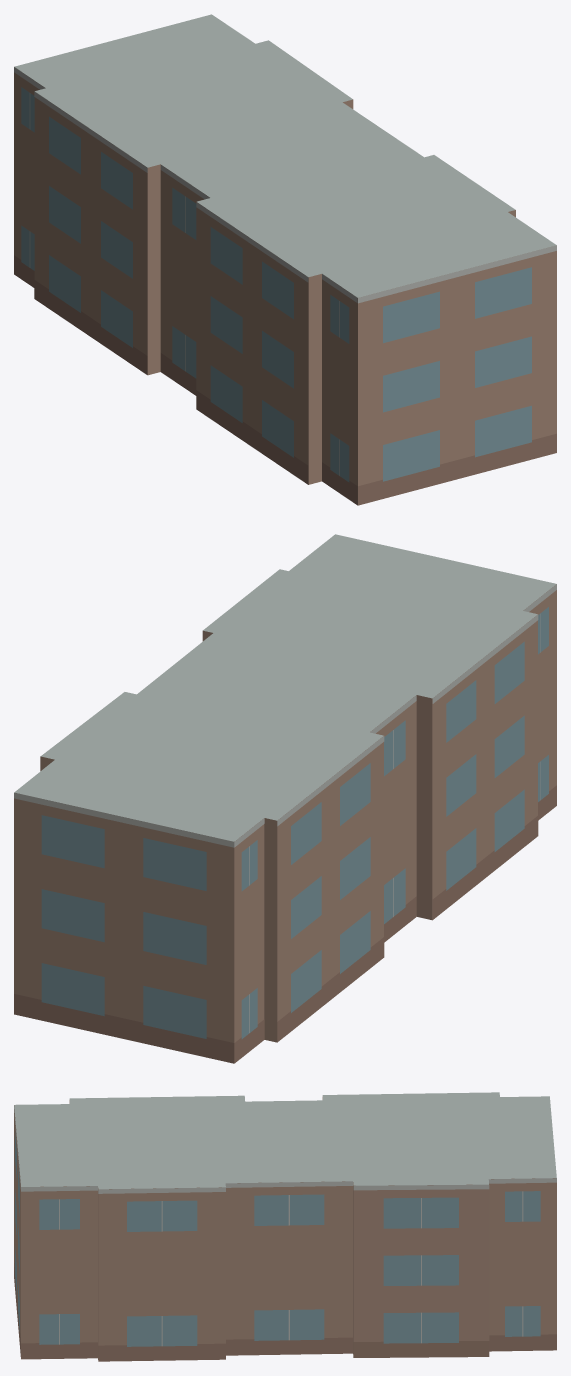
File: survey-upis-32697772.glb
The picture shows the model from 3 angles, top to bottom: view 1: azimuth 30°, elevation 25°; view 2: azimuth 150°, elevation 25°; view 3: azimuth 270°, elevation 25°; orthographic projection. The views are drawn at different scales.
Visible parts, largest first — view 1: survey-upis-32697772.tmp; view 2: survey-upis-32697772.tmp; view 3: survey-upis-32697772.tmp.
Boxes of the visible parts, x1,y1,x2,y2 form: survey-upis-32697772.tmp: (14, 14, 556, 505); survey-upis-32697772.tmp: (14, 534, 556, 1063); survey-upis-32697772.tmp: (14, 1092, 556, 1361).
Size of the model in its own units: 11.05 by 9.15 by 26.14.
